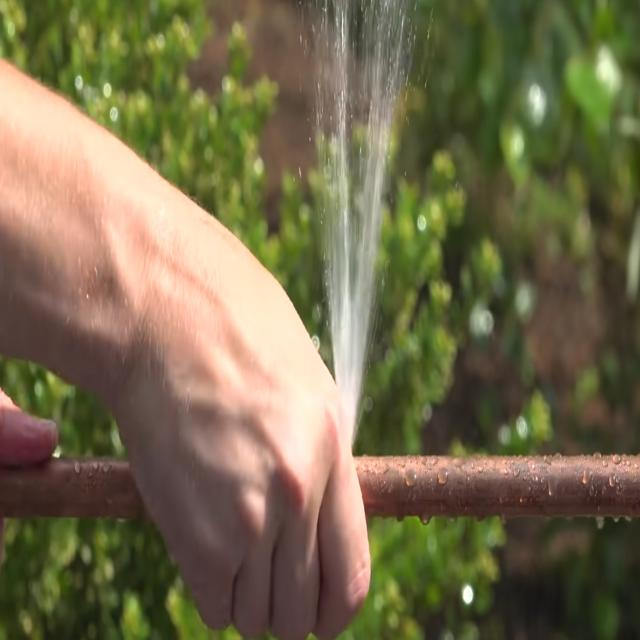leak: (316, 0, 409, 438)
